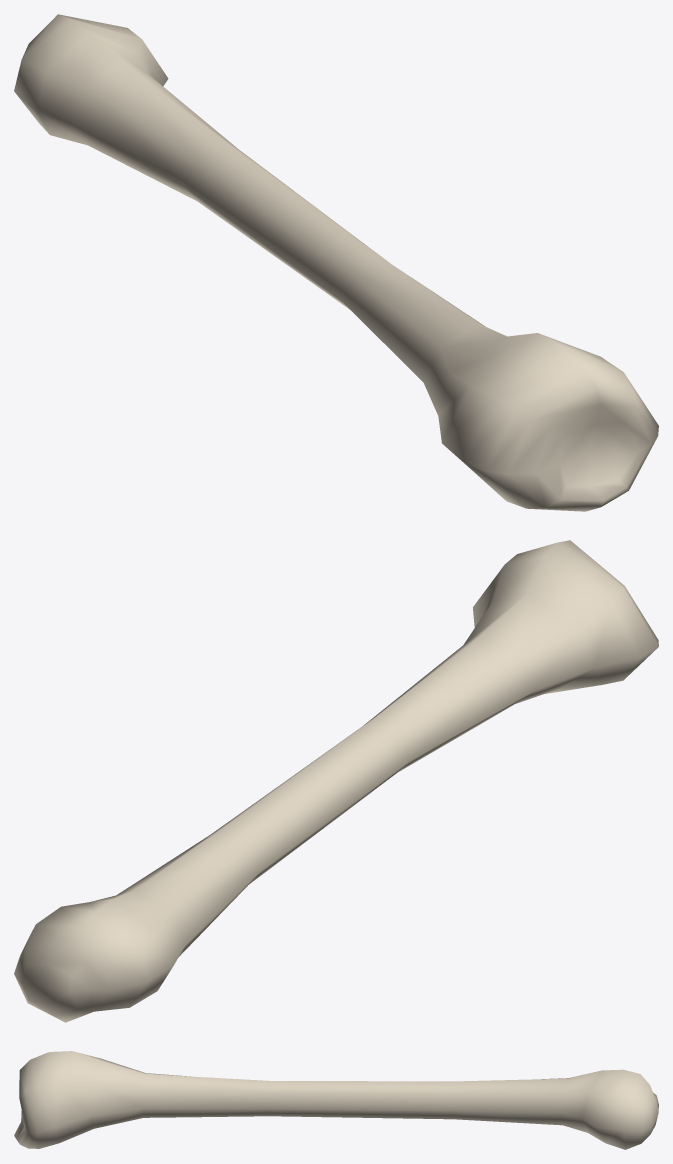
File: Bone_1.glb
3 renders of one model, top to bottom at view 1: azimuth 30°, elevation 25°; view 2: azimuth 150°, elevation 25°; view 3: azimuth 270°, elevation 25°, orthographic. The views are drawn at different scales.
Parts seen in each view (by area): view 1: Bone_1; view 2: Bone_1; view 3: Bone_1.
Part boxes in pixels (box(x1,y1,x2,y2)): Bone_1: box(14, 14, 658, 511); Bone_1: box(14, 540, 658, 1022); Bone_1: box(14, 1051, 658, 1149).
Bounding box in the file's own units: 0.0729 × 0.0579 × 0.3641.
